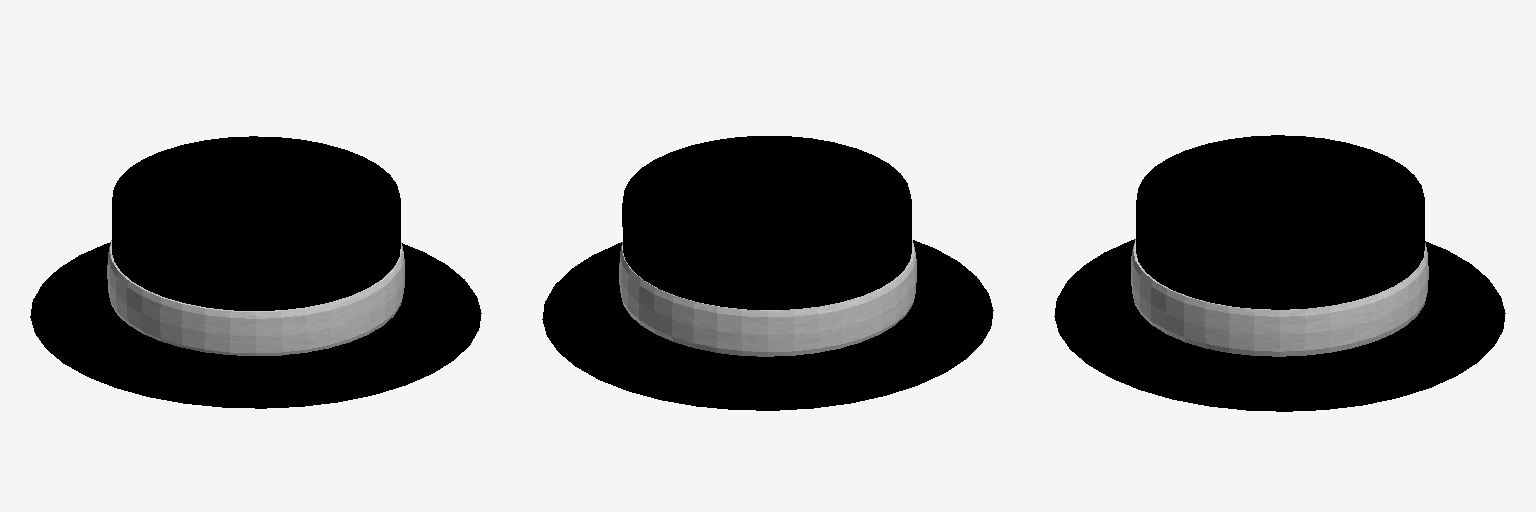
The picture shows the model from 3 angles: view 1: azimuth 30°, elevation 25°; view 2: azimuth 150°, elevation 25°; view 3: azimuth 270°, elevation 25°; orthographic projection.
Visible parts, largest first — view 1: snowman:snowman:Hat; view 2: snowman:snowman:Hat; view 3: snowman:snowman:Hat.
Part boxes in pixels (bbox=[...]): snowman:snowman:Hat: bbox=[30, 136, 481, 408]; snowman:snowman:Hat: bbox=[542, 136, 993, 410]; snowman:snowman:Hat: bbox=[1054, 135, 1505, 411].
Size of the model in its own units: 1.03 by 0.3135 by 1.03.
Materials: 2 (1 with a texture image).